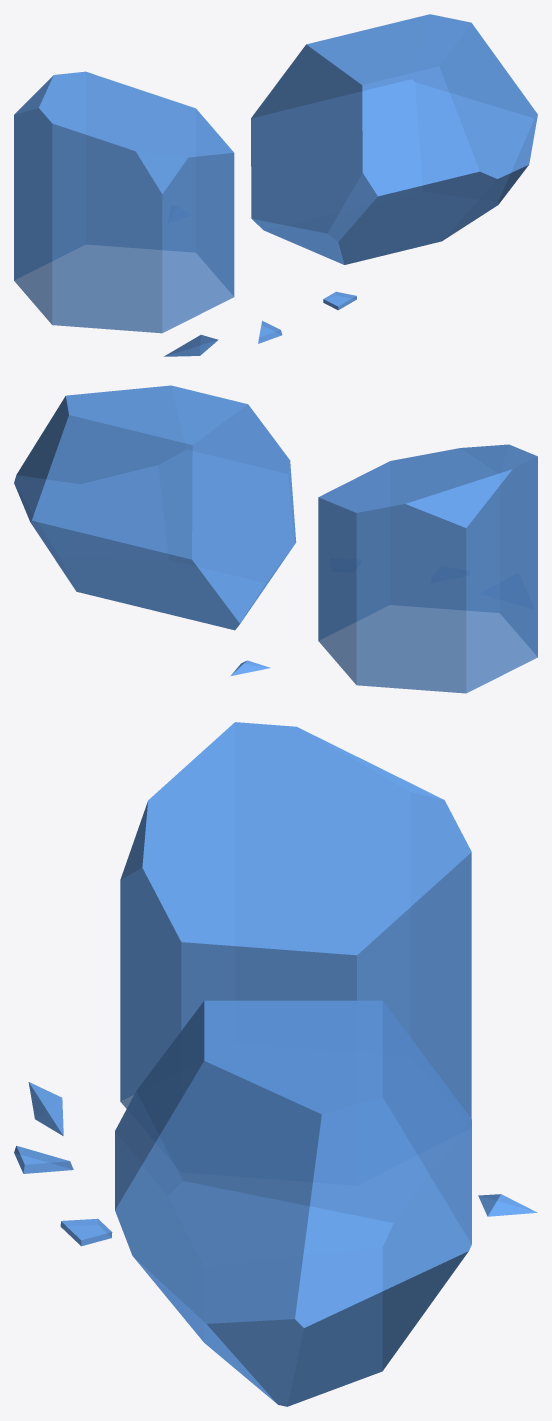
File: Crystal_crk_m_01.fbx
3 views of the same model, one above another, from view 1: azimuth 30°, elevation 25°; view 2: azimuth 150°, elevation 25°; view 3: azimuth 270°, elevation 25° (orthographic). The views are drawn at different scales.
Parts seen in each view (by area): view 1: Crystal_crk_m_01; view 2: Crystal_crk_m_01; view 3: Crystal_crk_m_01.
Boxes of the visible parts, x1,y1,x2,y2 form: Crystal_crk_m_01: (14, 14, 537, 356); Crystal_crk_m_01: (14, 385, 537, 693); Crystal_crk_m_01: (14, 722, 537, 1406).
Size of the model in its own units: 219 by 86.07 by 123.
